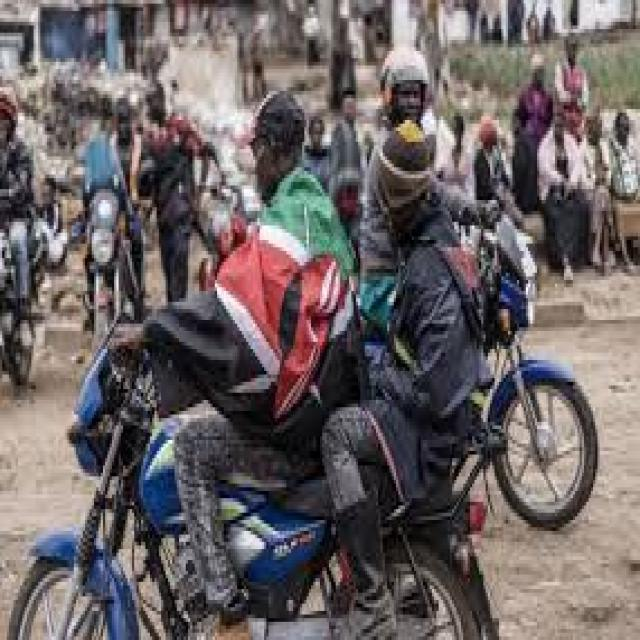bodaboda: (4, 143, 502, 640)
